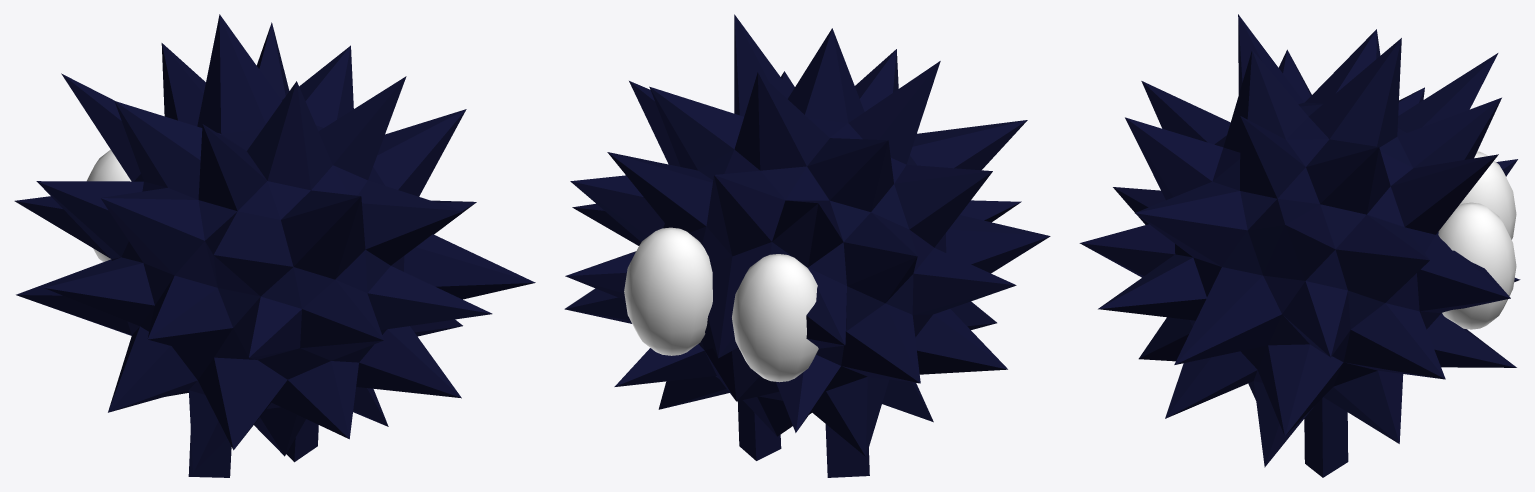
The model's file is SpikeModel.fbx.
3 views of the same model, side by side, from view 1: azimuth 30°, elevation 25°; view 2: azimuth 150°, elevation 25°; view 3: azimuth 270°, elevation 25° (orthographic).
Parts seen in each view (by area): view 1: Body, Eyes; view 2: Body, Eyes; view 3: Body, Eyes.
Boxes of the visible parts, x1,y1,x2,y2 form: Body: (14,14,535,477); Eyes: (87,149,131,261); Body: (564,14,1050,477); Eyes: (624,227,818,382); Body: (1079,14,1520,477); Eyes: (1438,151,1516,329).
Bounding box in the file's own units: 338 × 308 × 298.
